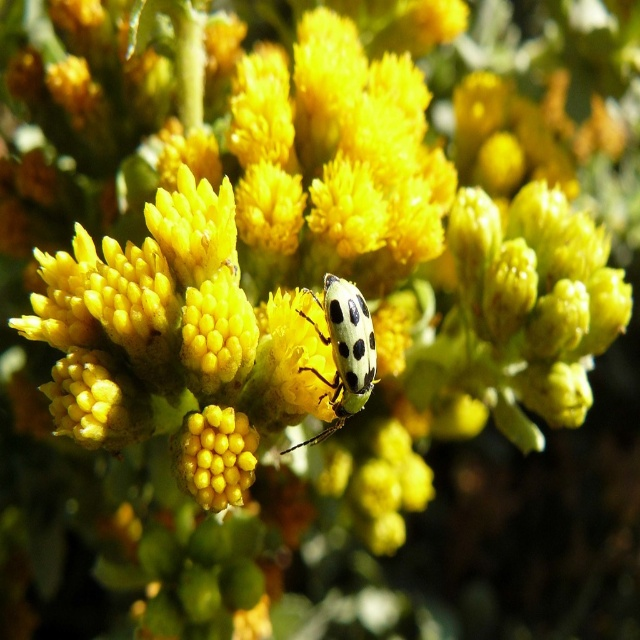Ladybug: (280, 272, 377, 456)
